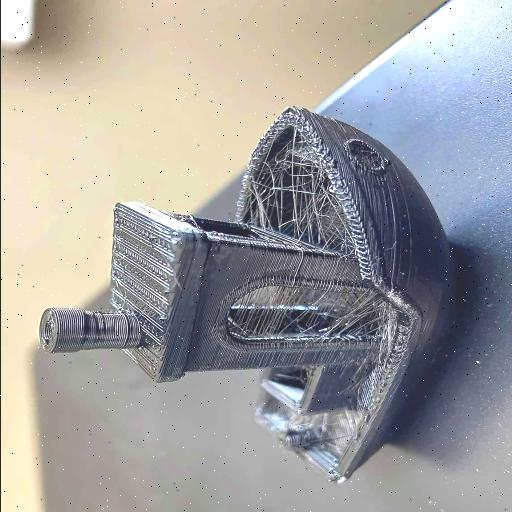stringing: (257, 142, 340, 251), (234, 287, 380, 336), (285, 412, 335, 439)
